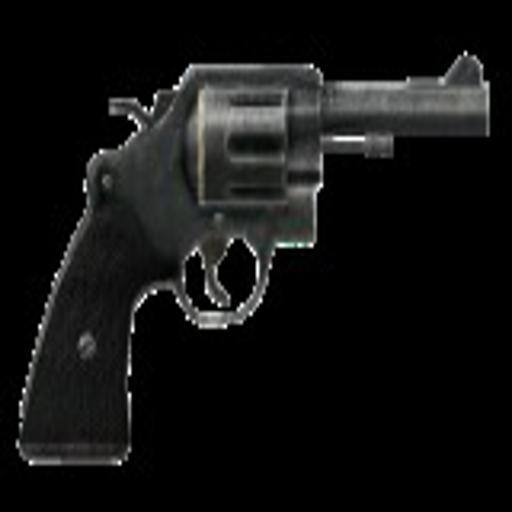Handgun: (11, 41, 491, 468)
